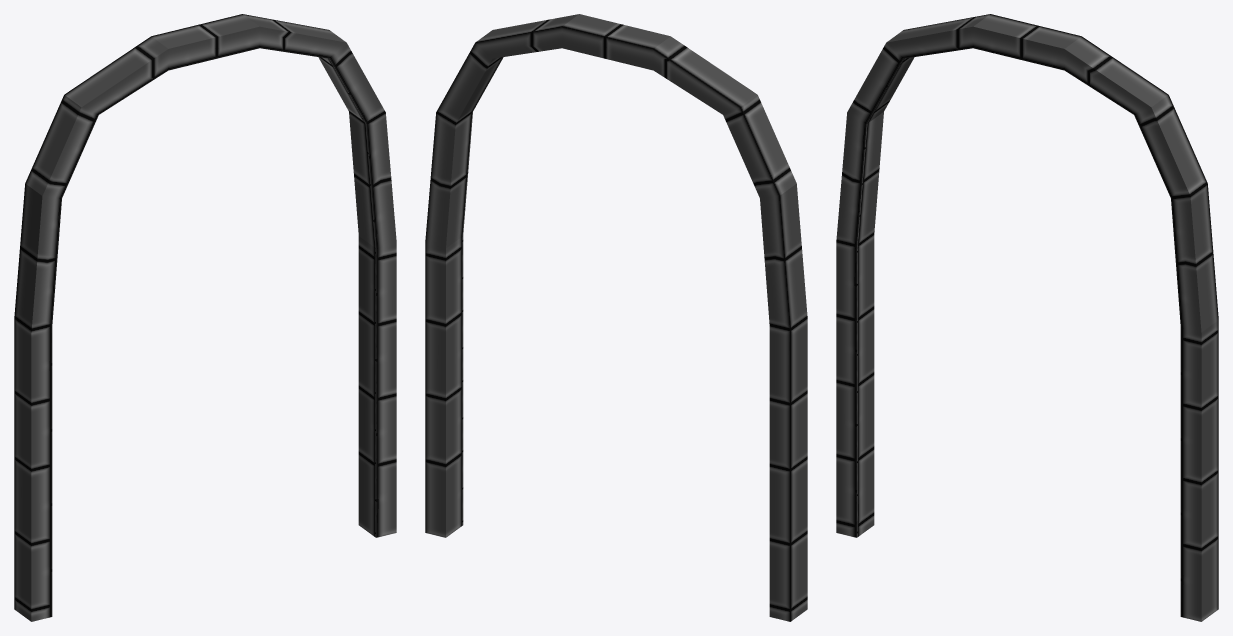
File: Modular_Pillar_Arch.fbx
3 renders of one model, left to right at view 1: azimuth 30°, elevation 25°; view 2: azimuth 150°, elevation 25°; view 3: azimuth 330°, elevation 25°, orthographic.
Visible parts, largest first — view 1: pCube69; view 2: pCube69; view 3: pCube69.
Part boxes in pixels (<box>): pCube69: <box>14,14,396,621</box>; pCube69: <box>425,14,807,621</box>; pCube69: <box>836,14,1218,621</box>.
Bounding box in the file's own units: 400 × 565 × 32.83.
